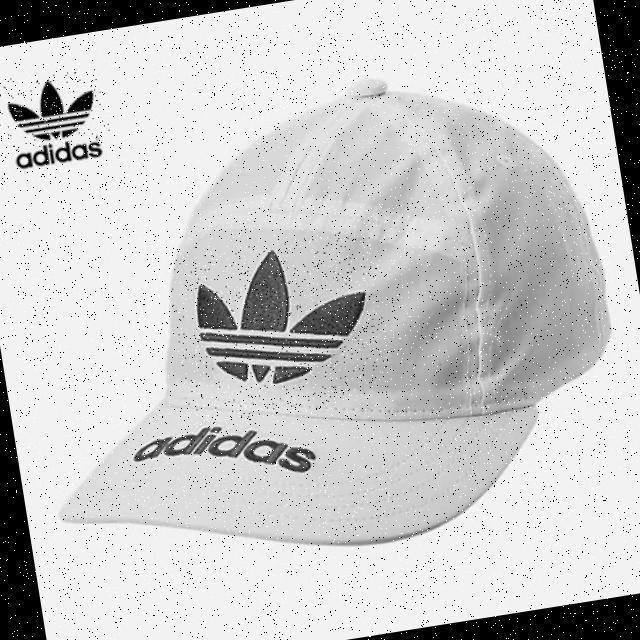Adidas: (166, 228, 396, 427), (0, 64, 111, 152)
